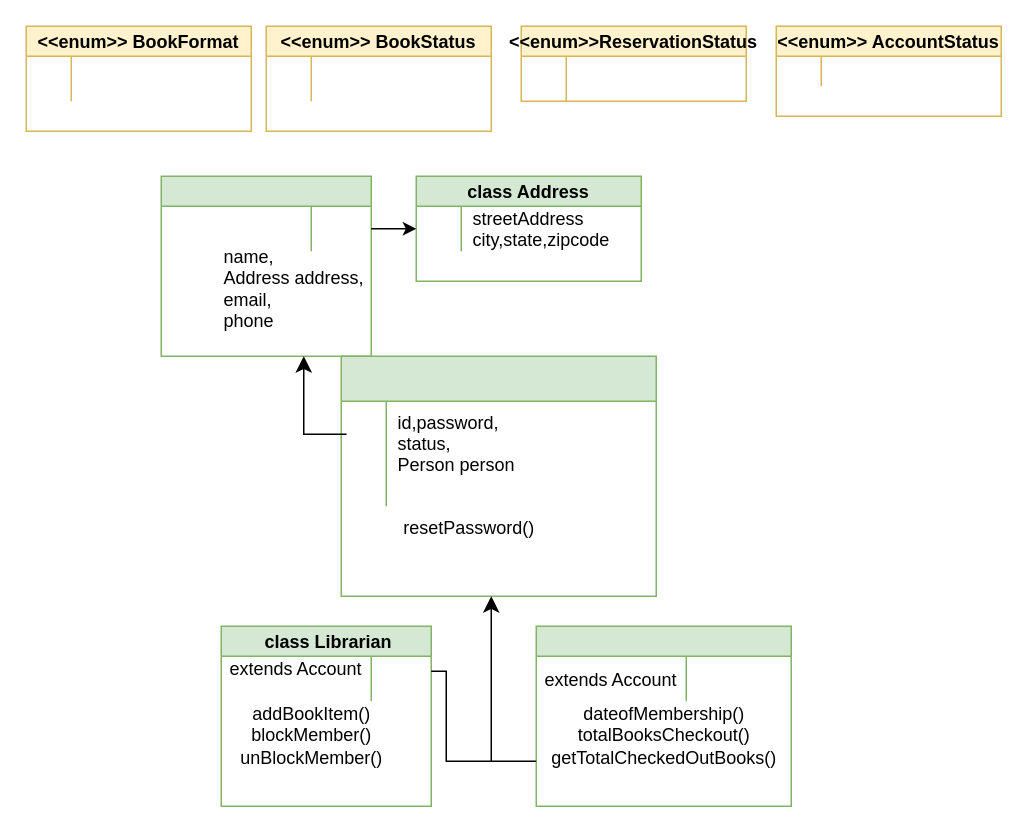
Image size: 1028x833. Some labels were removed from this diagram. The box of each missing label's shape, as (x1, y1, x2, y2) in pixels:
abstract class Account: (340, 355, 656, 596)
abstract class Person: (160, 175, 371, 356)
class Patron: (535, 625, 791, 806)
